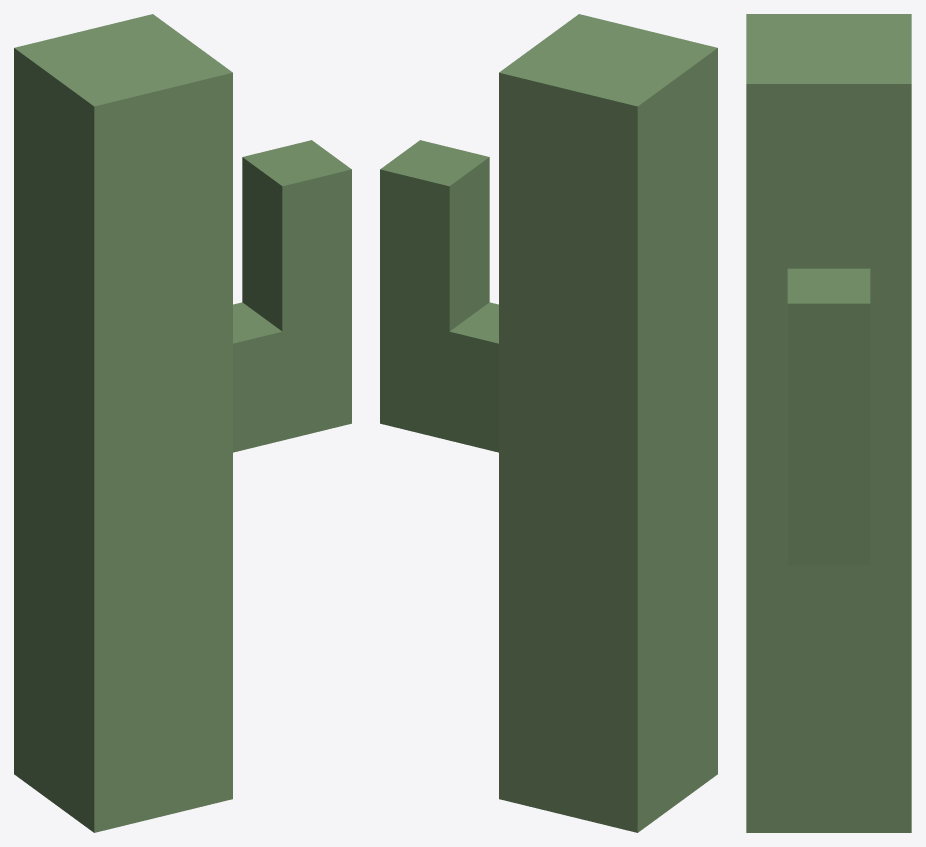
The model's file is saguaro_03.glb.
3 views of the same model, side by side, from view 1: azimuth 30°, elevation 25°; view 2: azimuth 150°, elevation 25°; view 3: azimuth 270°, elevation 25° (orthographic). The views are drawn at different scales.
Parts seen in each view (by area): view 1: saguaro_03; view 2: saguaro_03; view 3: saguaro_03.
Part boxes in pixels (<box>): saguaro_03: <box>14,14,351,832</box>; saguaro_03: <box>380,14,717,832</box>; saguaro_03: <box>746,14,911,832</box>.
Size of the model in its own units: 0.8 by 2 by 0.4.
